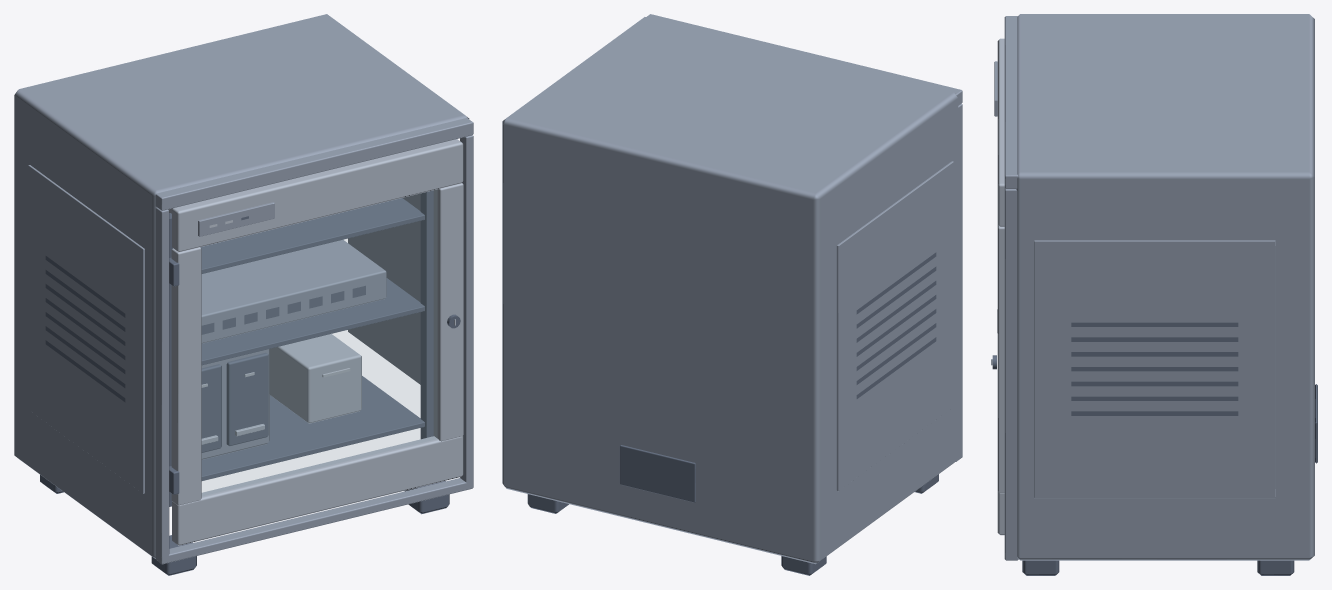
File: home-network-cabinet-lite.glb
3 views of the same model, side by side, from view 1: azimuth 30°, elevation 25°; view 2: azimuth 150°, elevation 25°; view 3: azimuth 270°, elevation 25° (orthographic). The views are drawn at different scales.
Parts seen in each view (by area): view 1: home-network-cabinet; view 2: home-network-cabinet; view 3: home-network-cabinet.
Part boxes in pixels (x1,y1,x2,y2): home-network-cabinet: [14, 14, 473, 575]; home-network-cabinet: [502, 14, 962, 575]; home-network-cabinet: [991, 14, 1317, 575].
Bounding box in the file's own units: 0.55 × 0.64 × 0.46.
